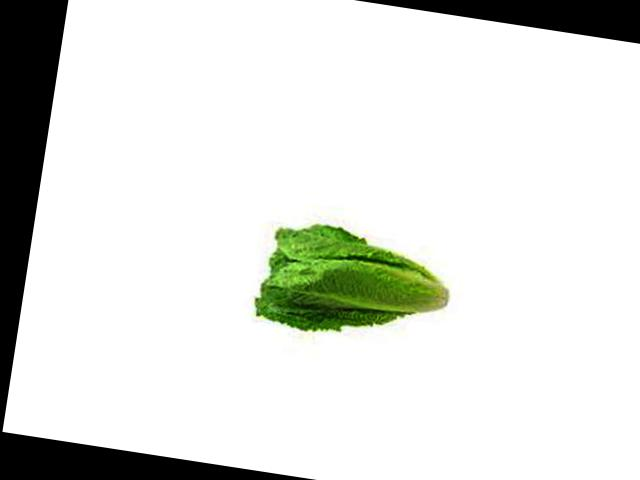lettuce: (194, 5, 356, 185)
